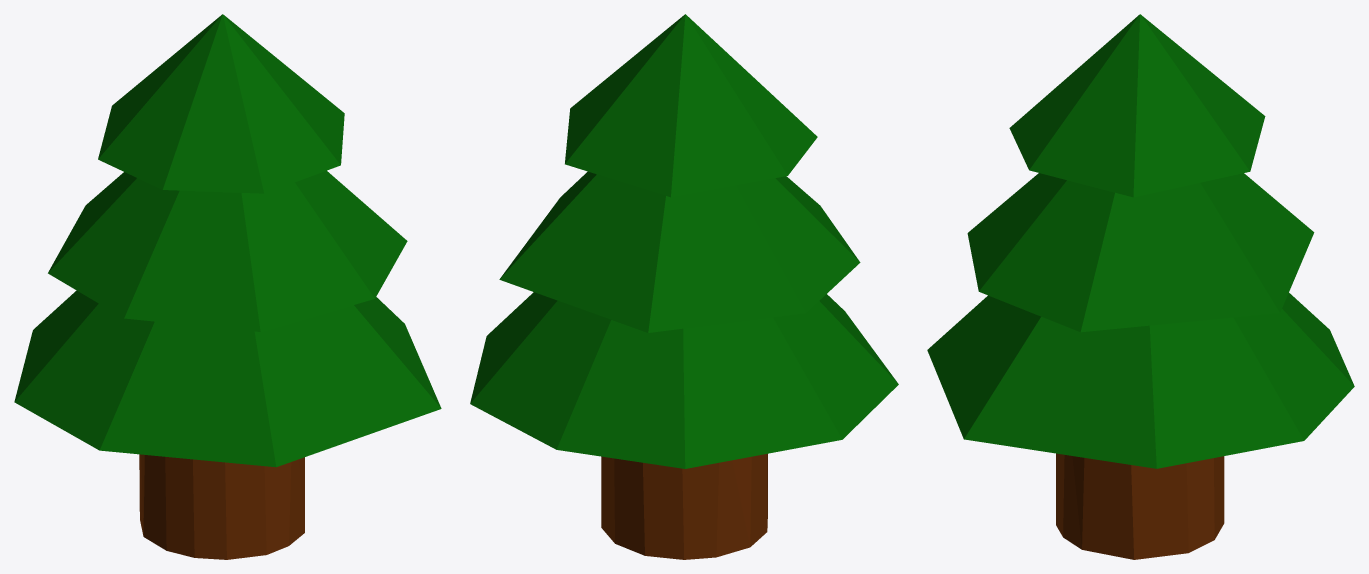
Rendered from ArvoreWall.fbx.
The picture shows the model from 3 angles, left to right: view 1: azimuth 30°, elevation 25°; view 2: azimuth 150°, elevation 25°; view 3: azimuth 270°, elevation 25°; orthographic projection.
Visible parts, largest first — view 1: Cylinder.001; view 2: Cylinder.001; view 3: Cylinder.001.
Boxes of the visible parts, x1,y1,x2,y2 form: Cylinder.001: (14,14,441,559); Cylinder.001: (470,14,898,559); Cylinder.001: (927,14,1354,559).
Bounding box in the file's own units: 517 × 675 × 513.
